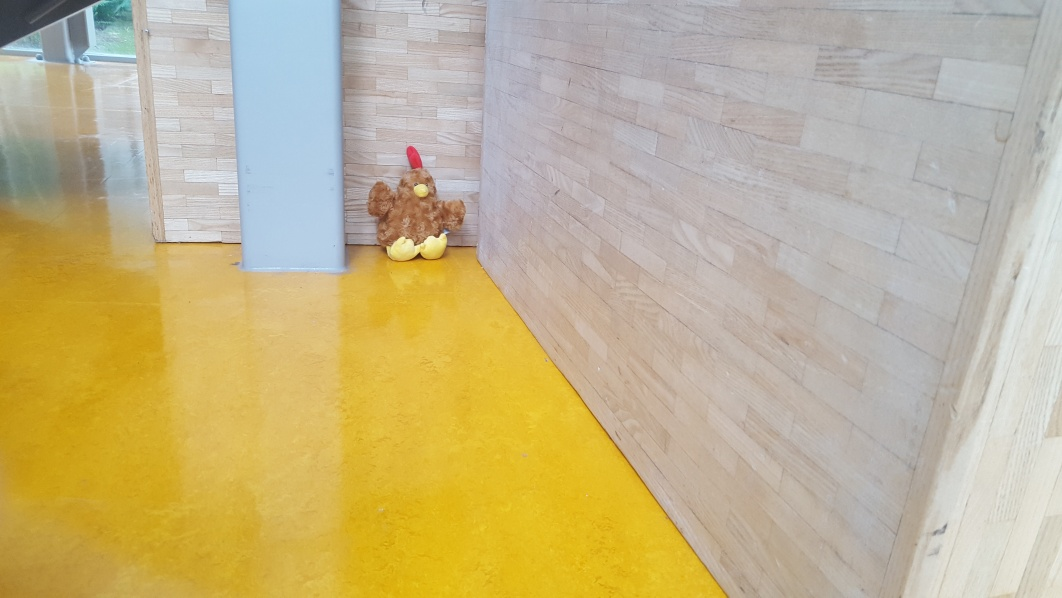chicken: (368, 142, 468, 261)
